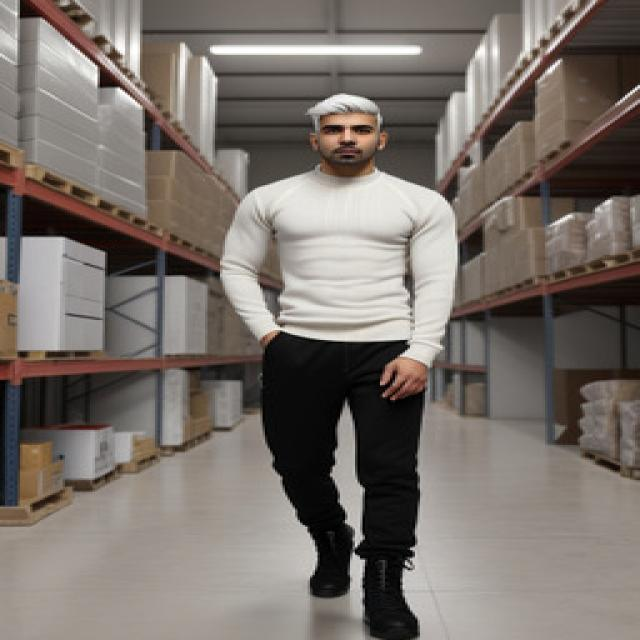Ai human 2: (202, 83, 521, 640)
